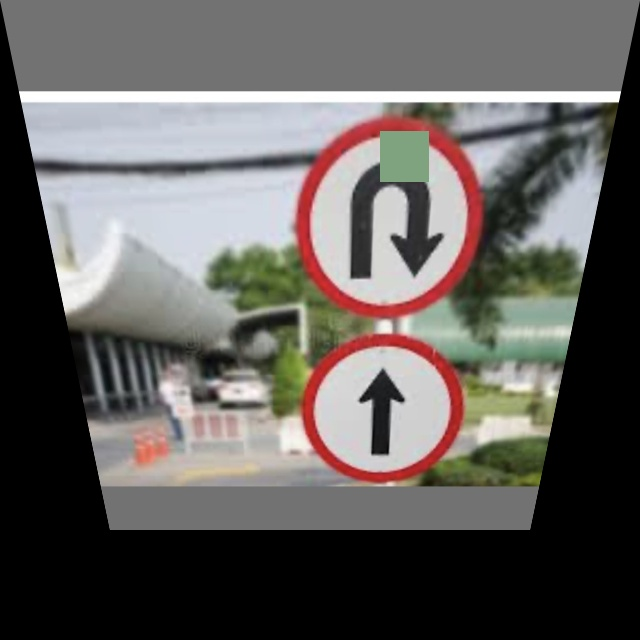U_Turn_Ahead: (297, 120, 495, 308)
